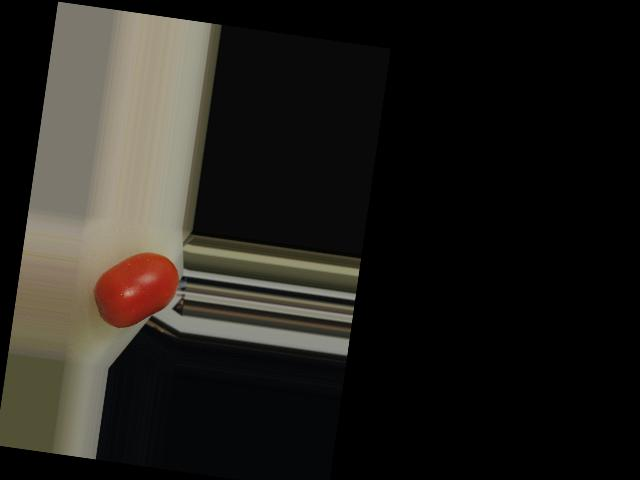tomato: (89, 245, 182, 335)
